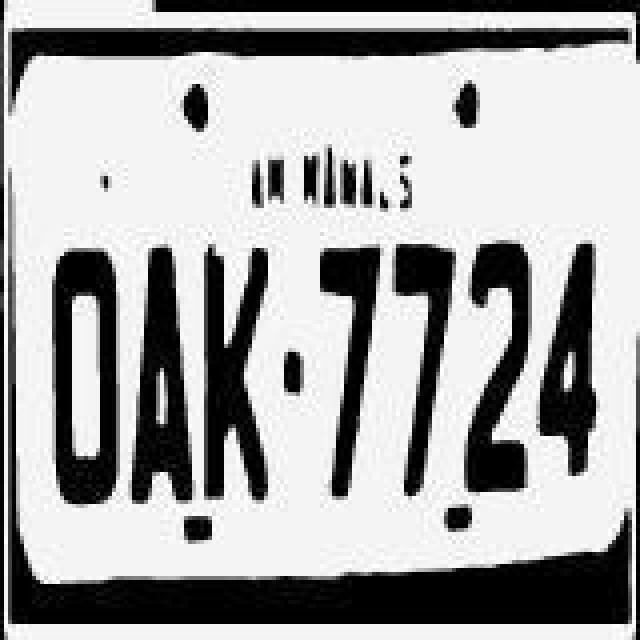2: (458, 236, 534, 500)
4: (536, 236, 608, 492)
7: (312, 234, 392, 494), (384, 238, 464, 498)
A: (122, 242, 198, 510)
K: (198, 240, 274, 512)
O: (36, 244, 124, 508)
